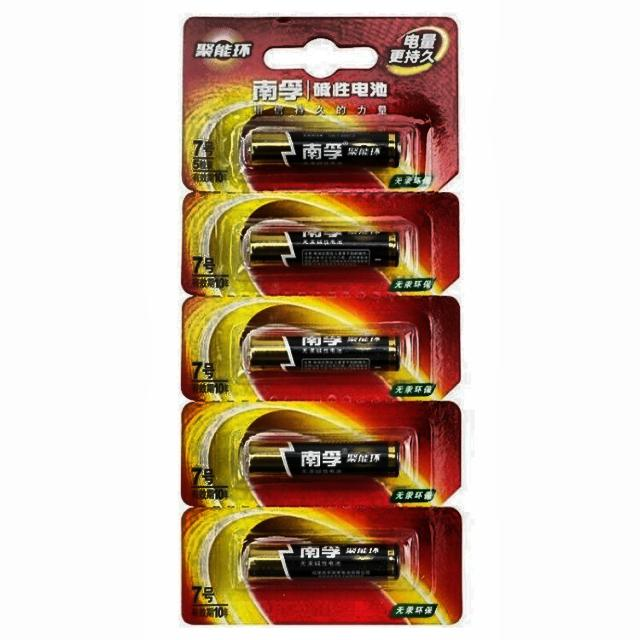Non-Valuable Waste - Batteries: (244, 434, 399, 477), (242, 330, 400, 372), (244, 538, 398, 579), (245, 128, 398, 166), (246, 231, 399, 267)
